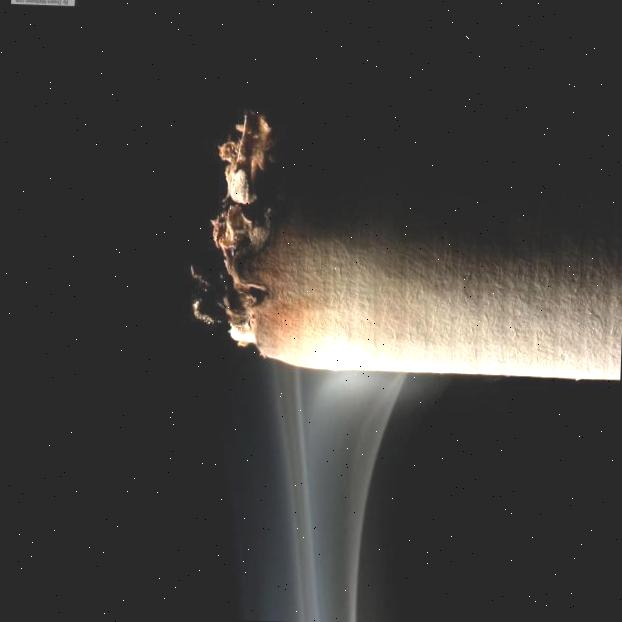smoke: (279, 374, 370, 557)
